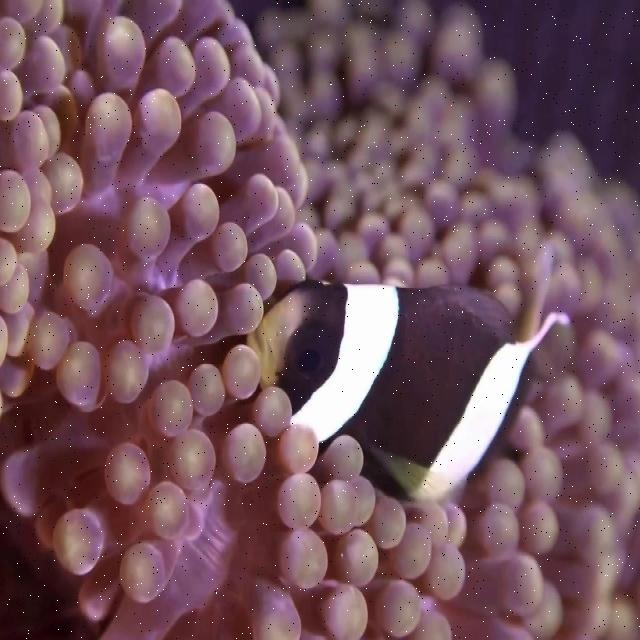fish: (249, 279, 573, 497)
reefs: (0, 1, 639, 639)
